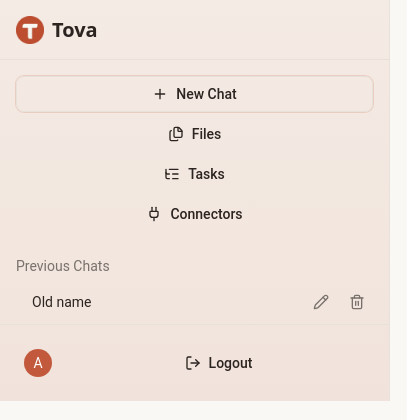
Sidebar — inline chat rename (#359) › swaps the row for an input and commits the trimmed title on Enter
Click the button named "Rename chat: Old name" at (321, 302), box [305,286,337,318]
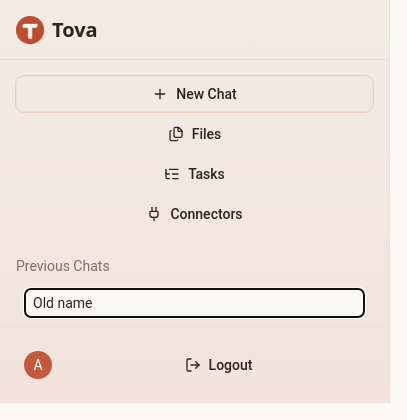
Expected: the field with test id "sidebar-rename-input" holds "Old name"
Replace the text in the field with test id "sidebar-rename-input" with "  New name  " at (194, 303), box [24,288,365,318]
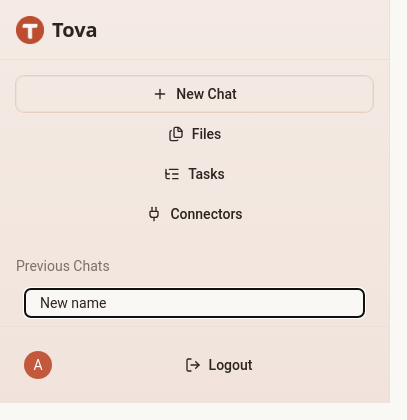
Press Enter in the field with test id "sidebar-rename-input", box [24,288,365,318]
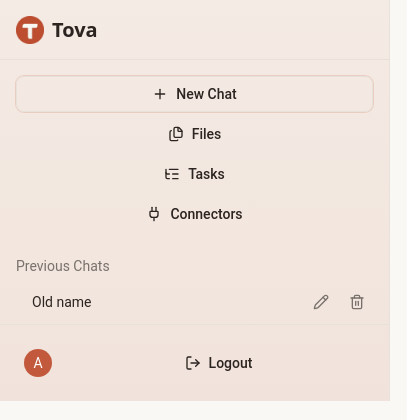
Expected: the field with test id "sidebar-rename-input" is gone
